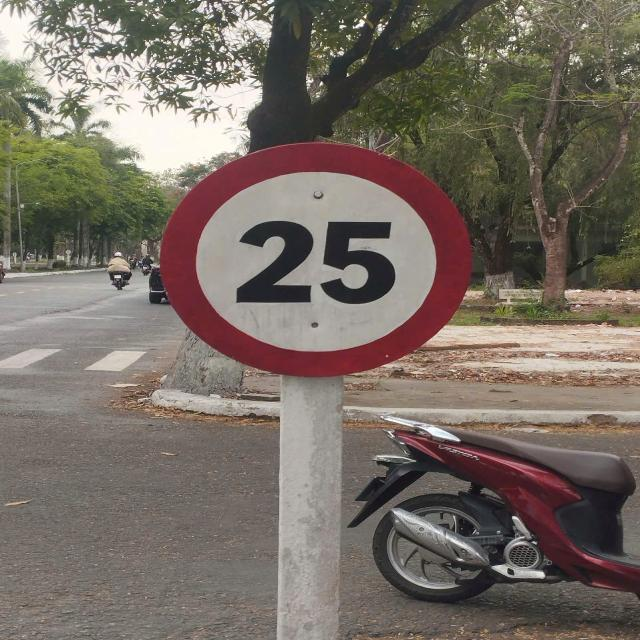Tre_Em: (159, 141, 473, 377)
